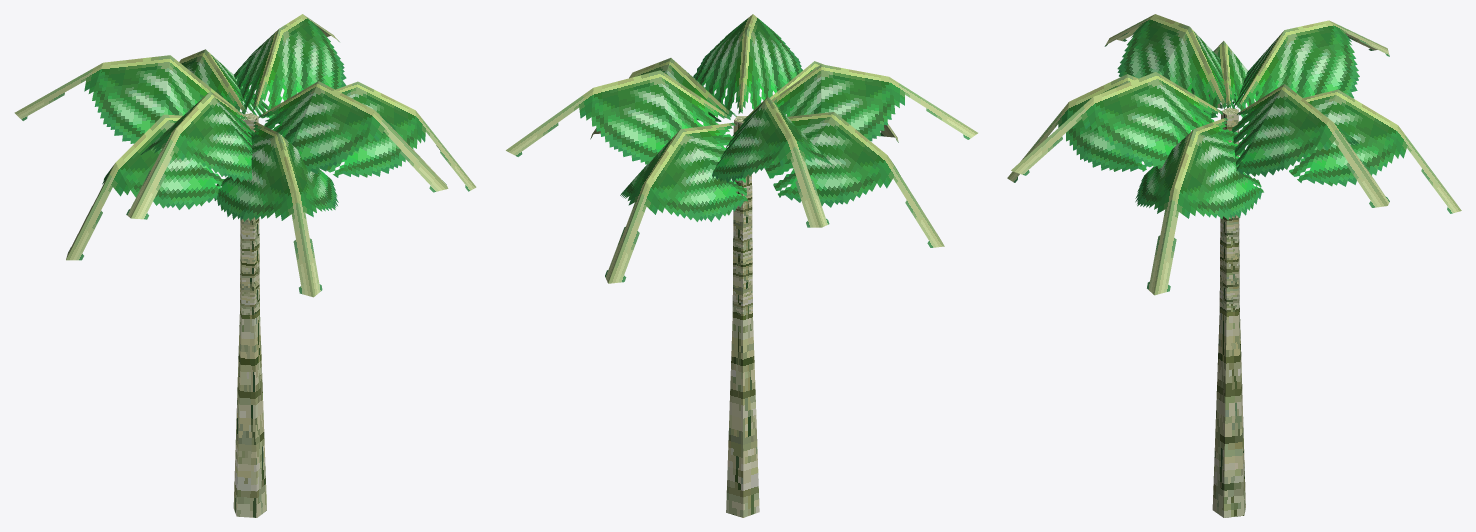
Rendered from SI_PalmTree_Improved_NonClimbableStaticObject.dae.
The picture shows the model from 3 angles, left to right: view 1: azimuth 30°, elevation 25°; view 2: azimuth 150°, elevation 25°; view 3: azimuth 270°, elevation 25°; orthographic projection. The views are drawn at different scales.
Parts seen in each view (by area): view 1: r0; view 2: r0; view 3: r0.
Part boxes in pixels (x1,y1,x2,y2): r0: (14, 14, 476, 517); r0: (506, 14, 977, 517); r0: (1007, 14, 1461, 517).
Size of the model in its own units: 1.46 by 1.48 by 1.63.
2 materials, 2 textured.
